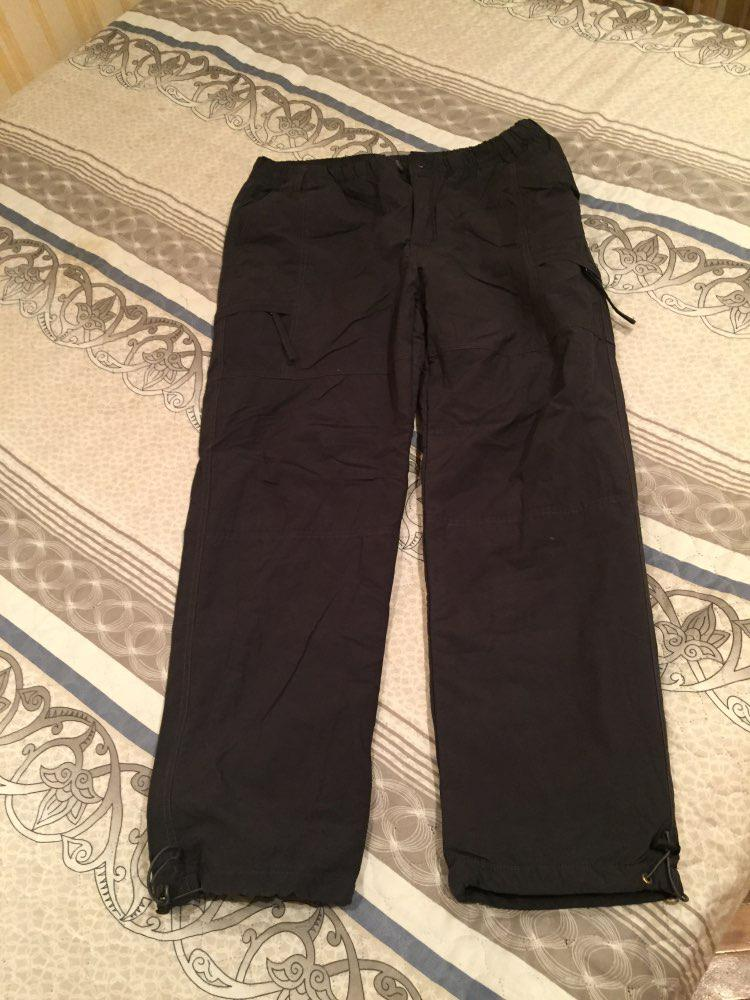pants: (171, 125, 681, 915)
